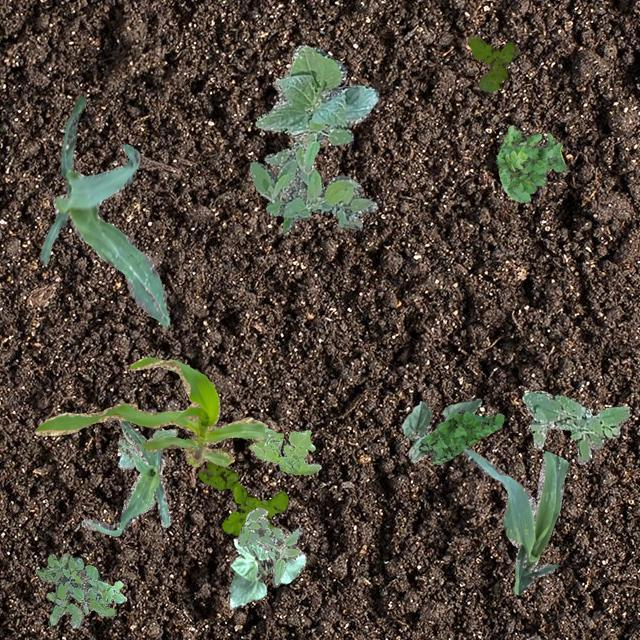crop: (40, 96, 168, 326), (34, 356, 268, 466), (255, 44, 378, 172), (462, 446, 568, 594), (80, 420, 168, 534), (227, 536, 306, 608), (402, 398, 481, 462)
weed: (248, 138, 376, 234), (522, 389, 630, 464), (196, 446, 286, 534), (34, 552, 126, 626), (236, 506, 302, 586), (496, 125, 564, 202), (418, 408, 502, 464), (252, 428, 321, 473), (468, 34, 516, 90), (116, 428, 176, 468)
